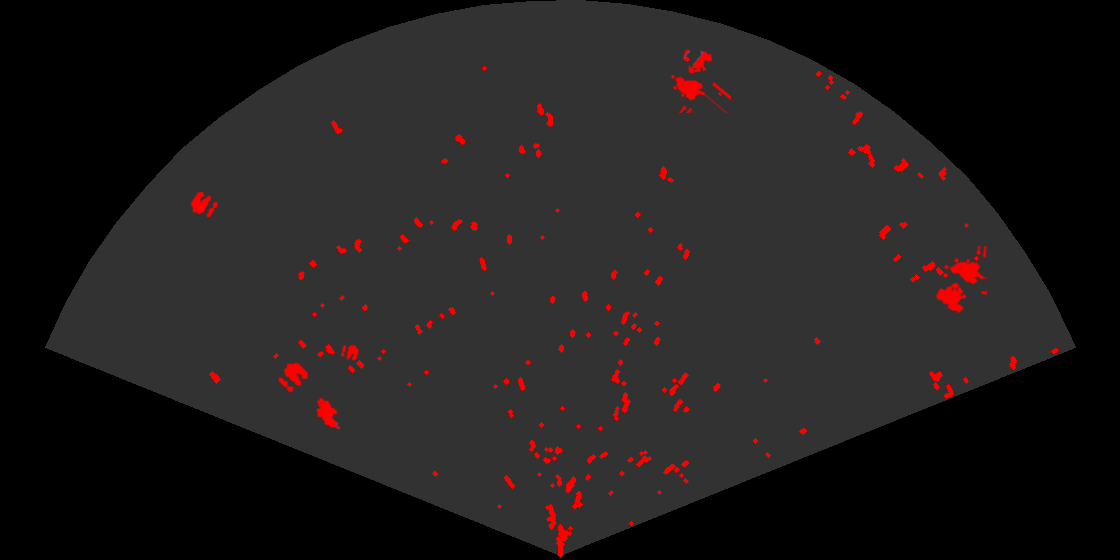AUV: (315, 396, 342, 431)
ball: (276, 361, 310, 394), (189, 190, 220, 219), (339, 343, 361, 362)
cage: (669, 48, 731, 113), (934, 246, 987, 315)
